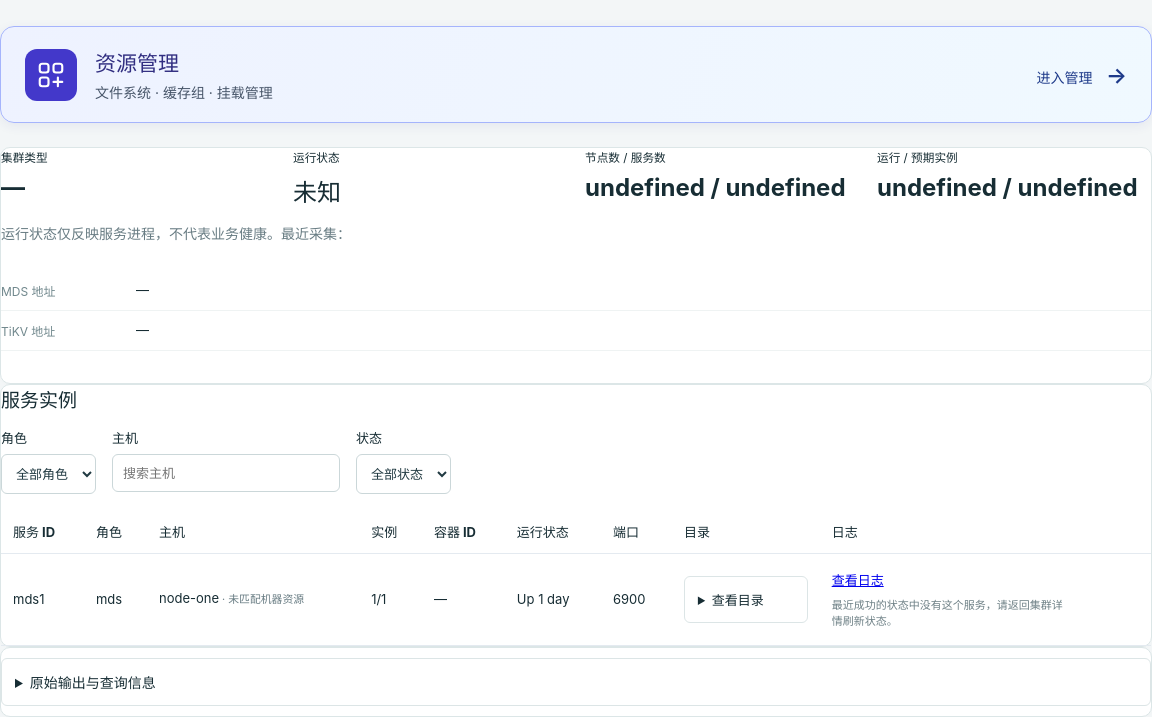
HTTP clipboard fallback copies the selected log path and reports success next to its button
(page scrolled)
Click the heading "查看目录": point(738, 600) [712,592,764,608]
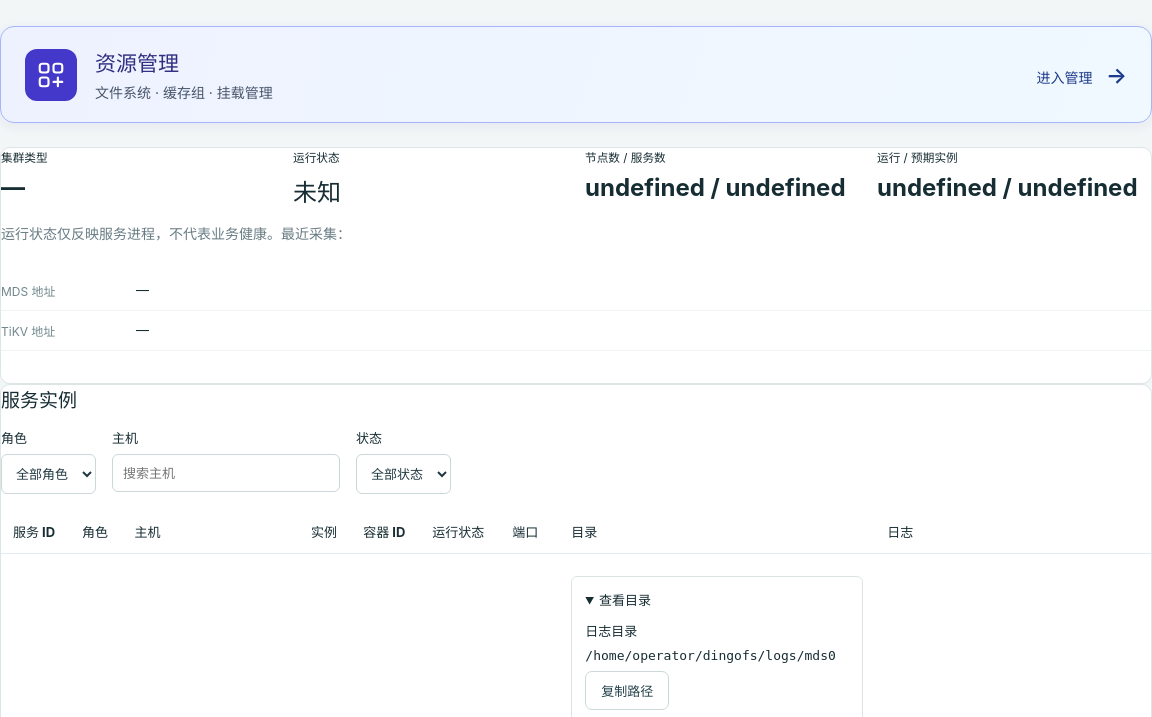
Click the button "复制路径": point(627, 690) [585,671,669,710]
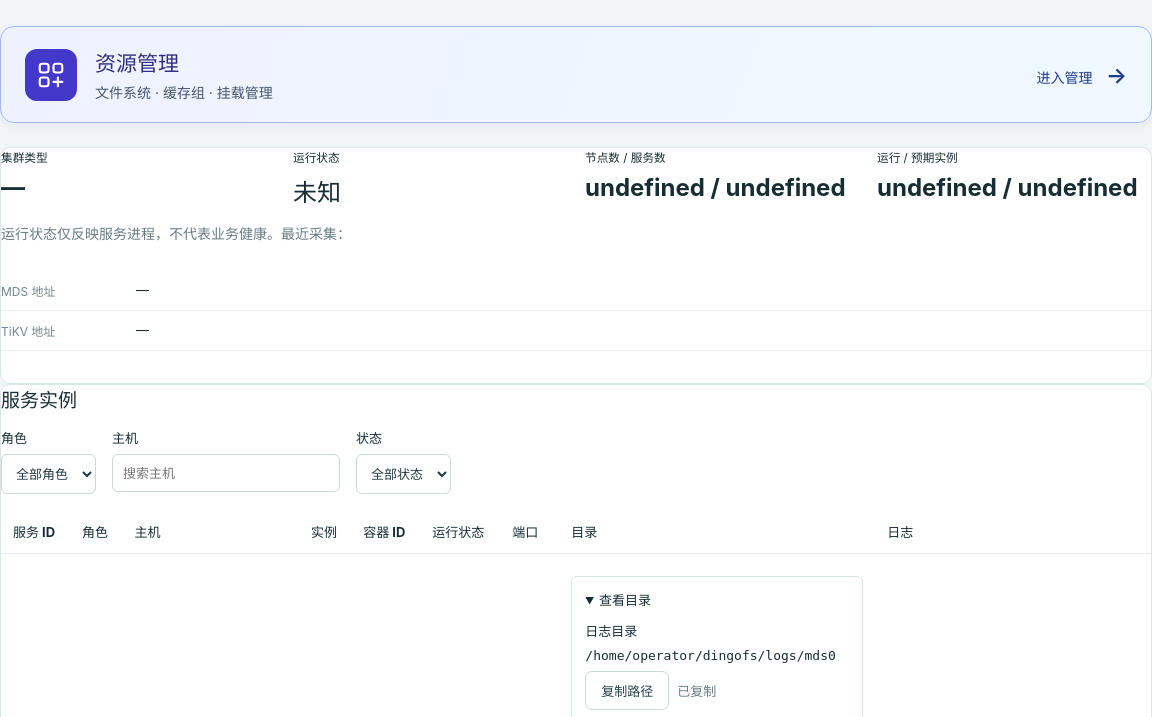
Now the message reads "已复制", box [677,683,716,699]
